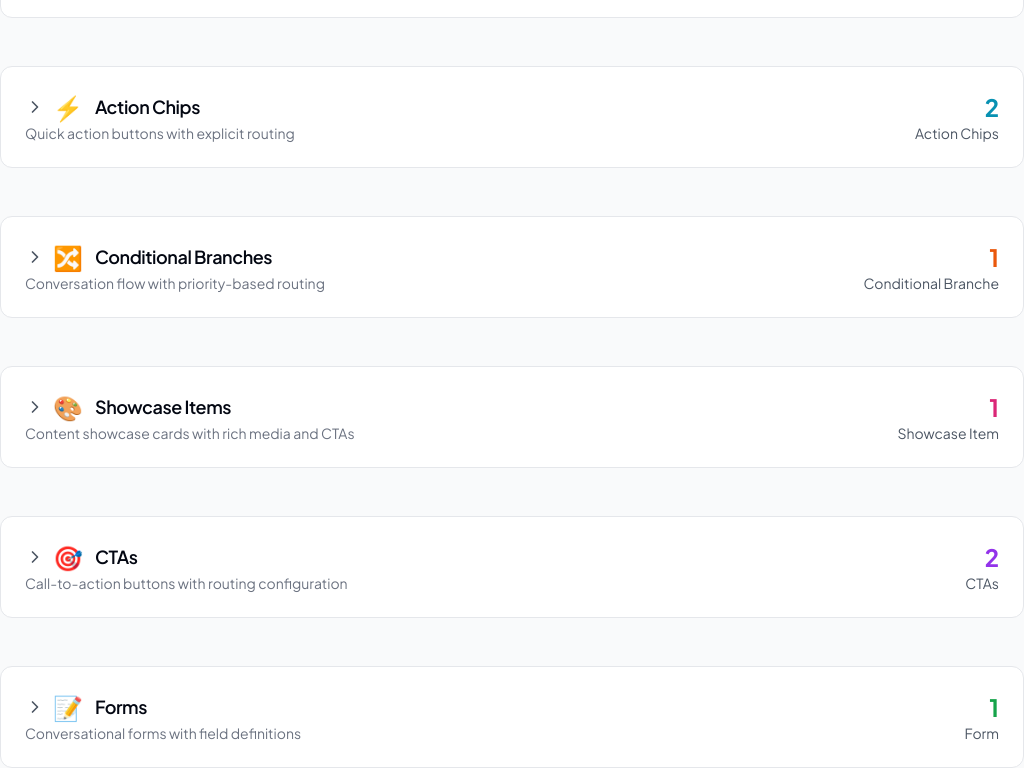
Test: ConversationFlowDiagram › Sections › should show chevron rotate on expand/collapse
# Click to expand
Click the button named "Expand section" at (54, 707), box left=25, top=691, right=83, bottom=723
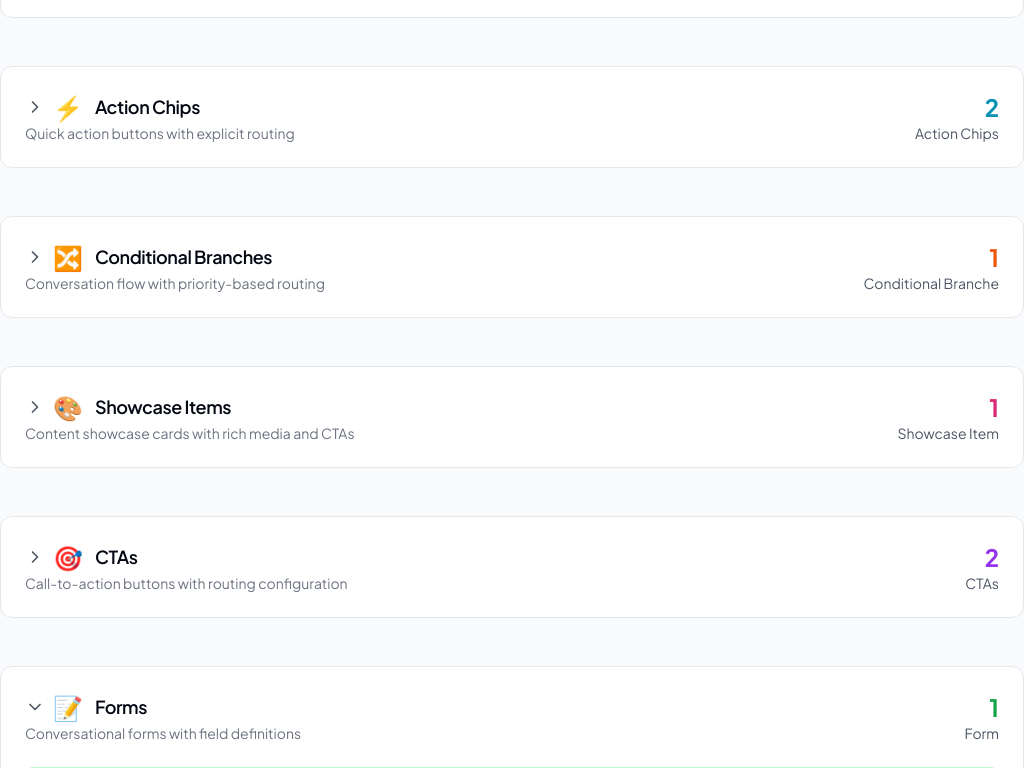
Expected: the button named "Collapse section" is shown, left=25, top=691, right=83, bottom=723
